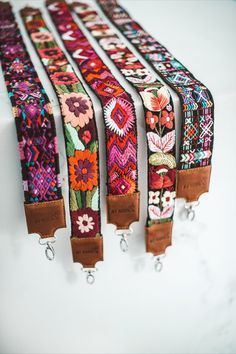cuero: (23, 165, 212, 267)
